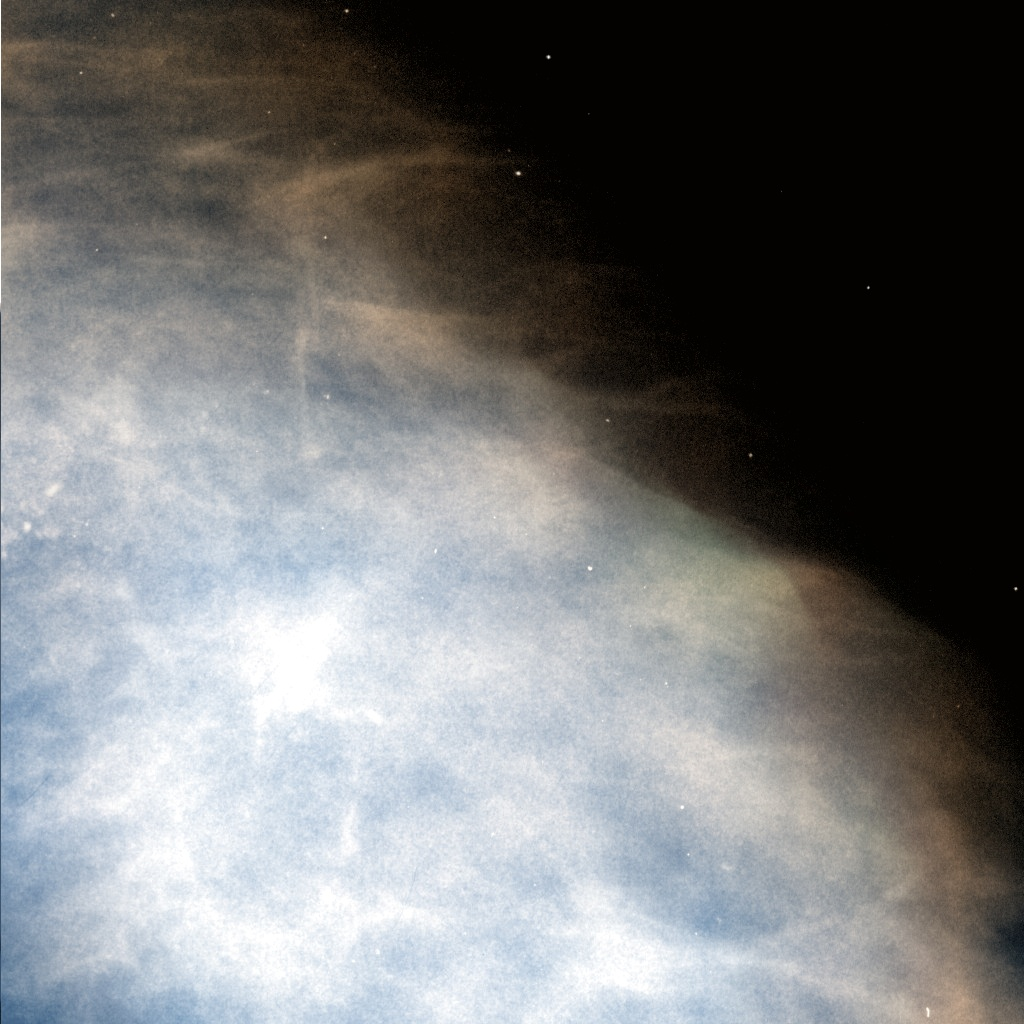tumor: (17, 414, 93, 610)
